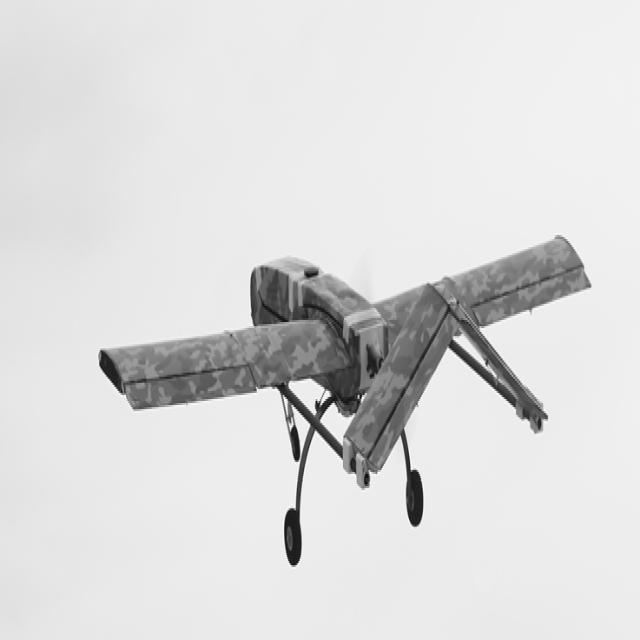iha: (35, 235, 589, 561)
